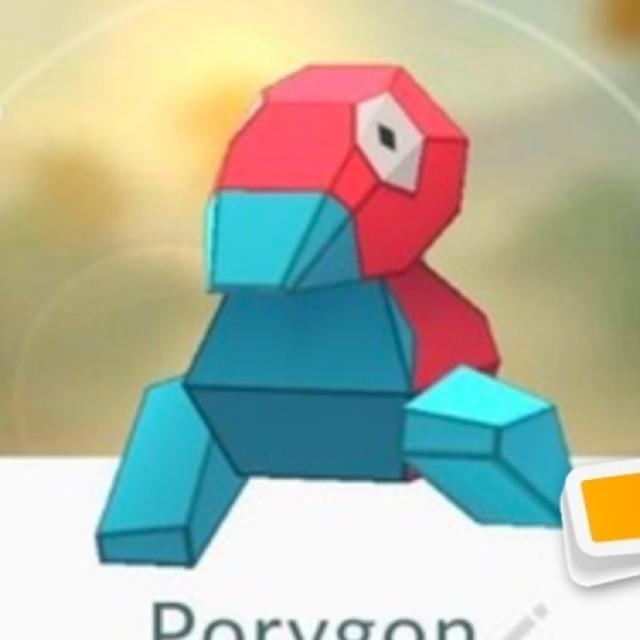Porygon: (137, 61, 560, 526)
